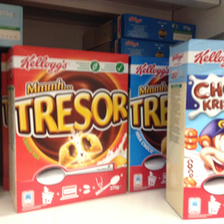cereal: (7, 44, 130, 213), (168, 39, 223, 220)
